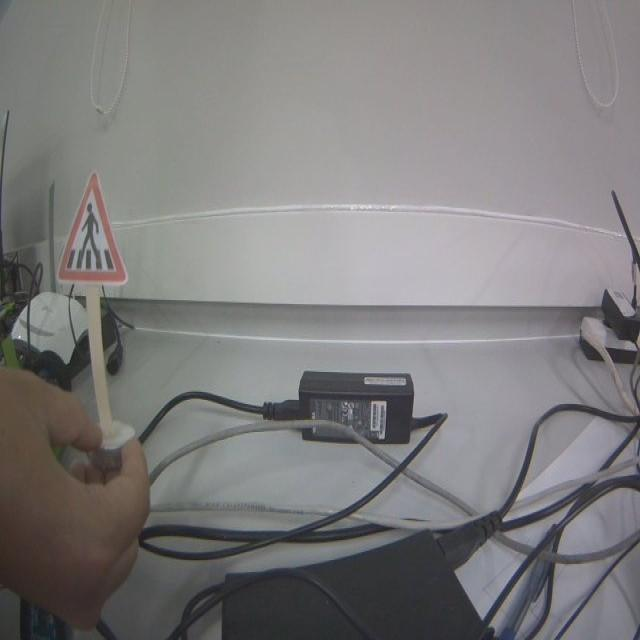Rambu Penyebrangan: (58, 173, 129, 284)
